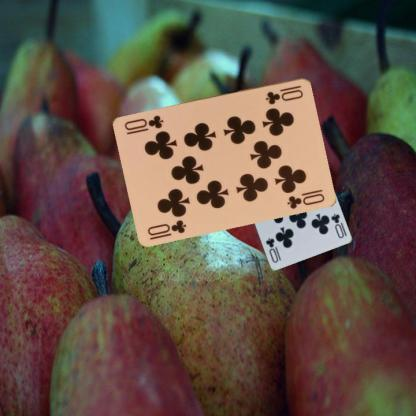10c: (263, 82, 304, 106), (145, 217, 188, 237), (328, 211, 345, 239)
